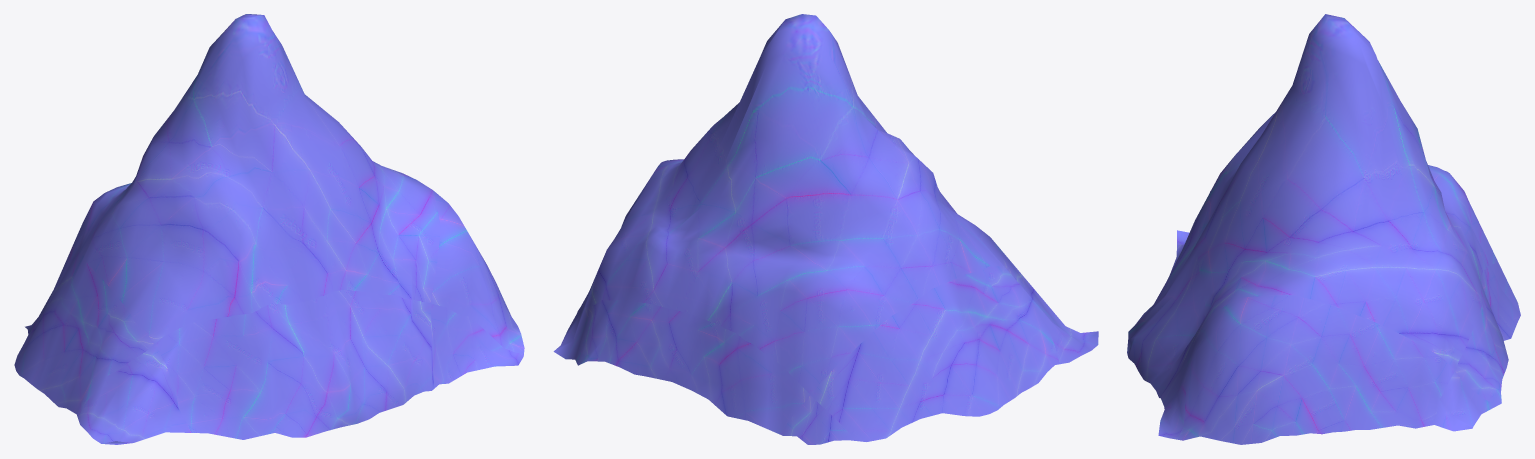
File: Mountain.fbx
3 renders of one model, left to right at view 1: azimuth 30°, elevation 25°; view 2: azimuth 150°, elevation 25°; view 3: azimuth 270°, elevation 25°, orthographic.
Parts seen in each view (by area): view 1: munt.005; view 2: munt.005; view 3: munt.005.
Boxes of the visible parts, x1,y1,x2,y2 form: munt.005: (14, 14, 524, 444); munt.005: (553, 14, 1098, 444); munt.005: (1127, 14, 1520, 444).
Bounding box in the file's own units: 4990 × 3681 × 3882.
